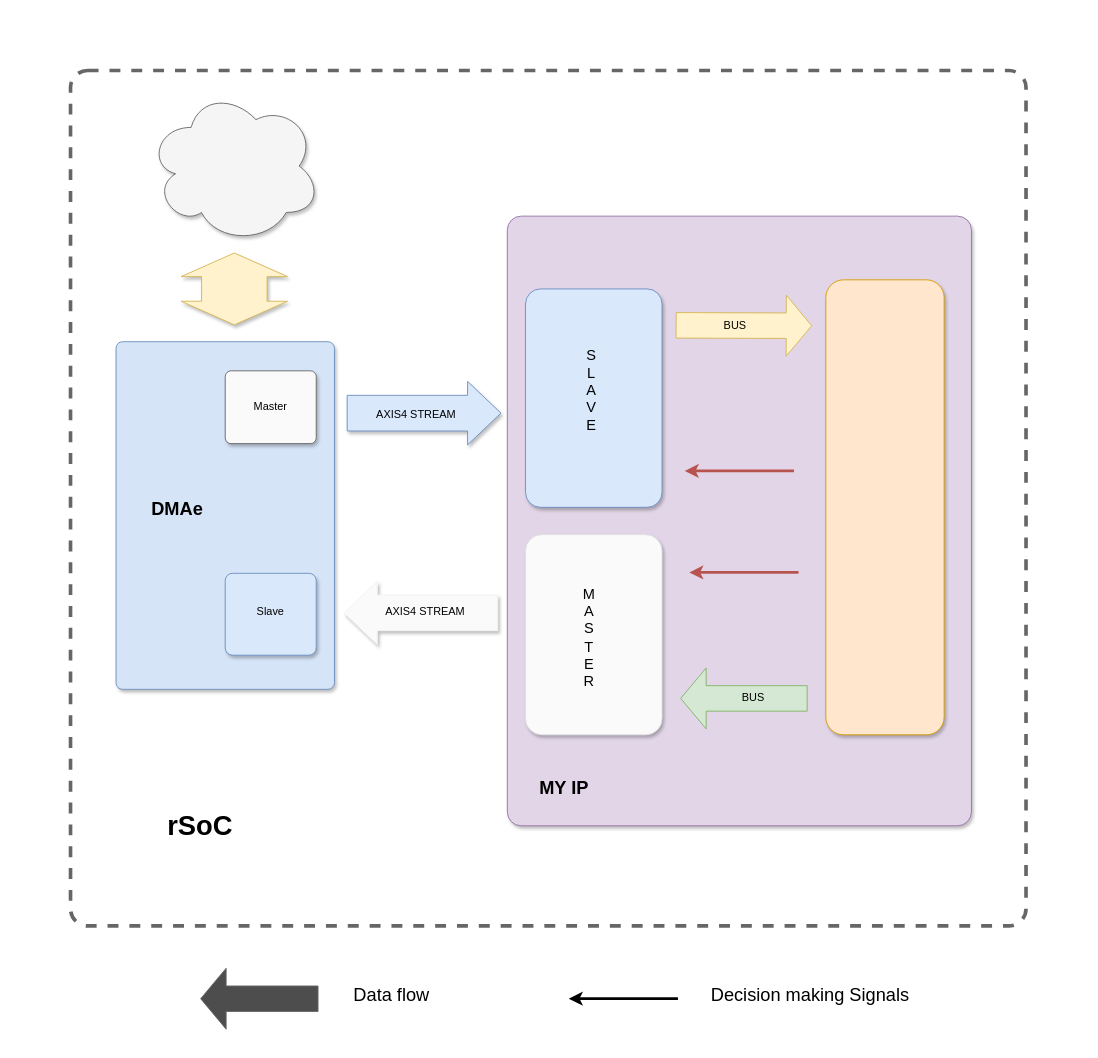
The diagram is 1098 pixels wide and 1058 high, and some of its shapes have lost their labels. The centre of each missing label's shape, as x and y in pixels:
F I F O: the point at 885,508
PS and Logic: the point at 234,167
